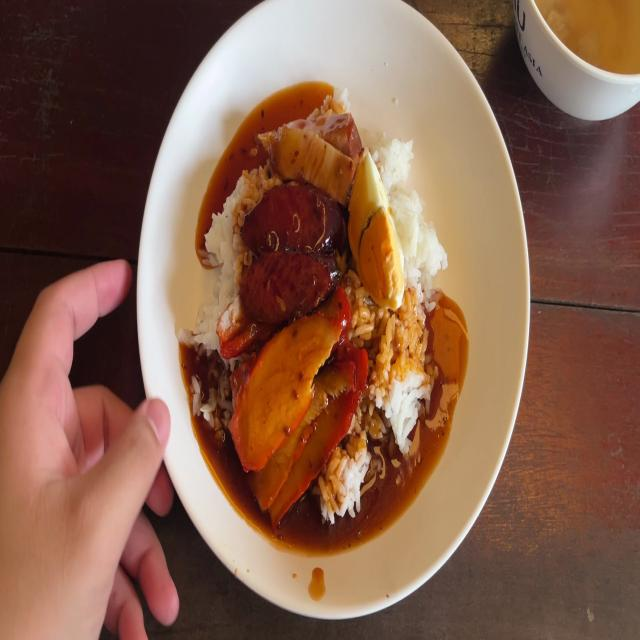01boiled_egg: (350, 148, 400, 311)
01chainese_sausage: (245, 179, 341, 305)
01crispy_pork: (272, 104, 353, 188)
01red_pork: (242, 296, 368, 512)
01red_pork_and_crispy_pork: (190, 78, 460, 512)
01rice: (365, 296, 430, 443), (387, 136, 446, 288), (198, 174, 248, 308)
